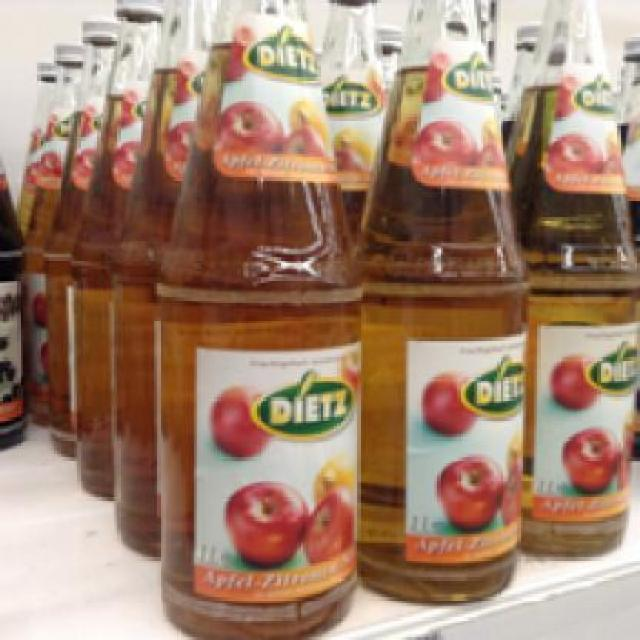Juice: (154, 0, 360, 637), (356, 0, 530, 600), (502, 0, 635, 560)
